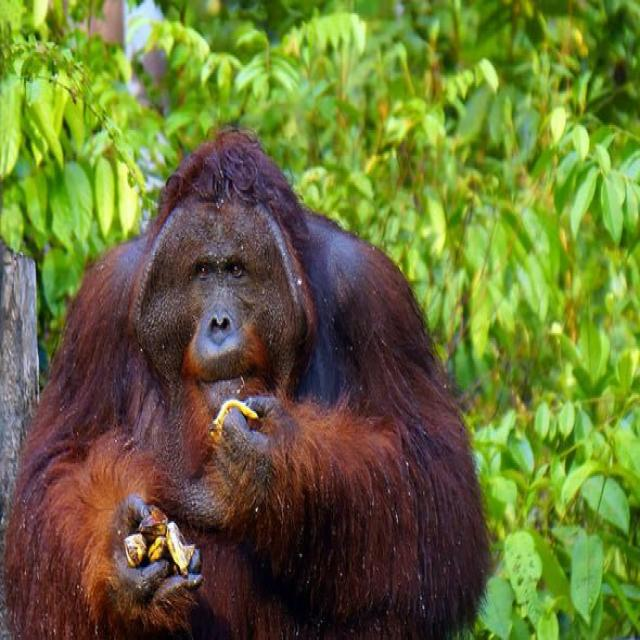Orangutan: (30, 140, 482, 632)
